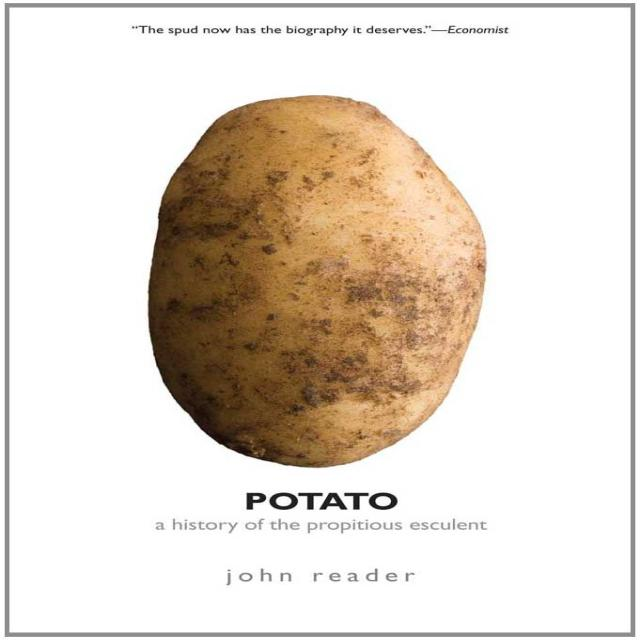potato: (149, 95, 488, 467)
